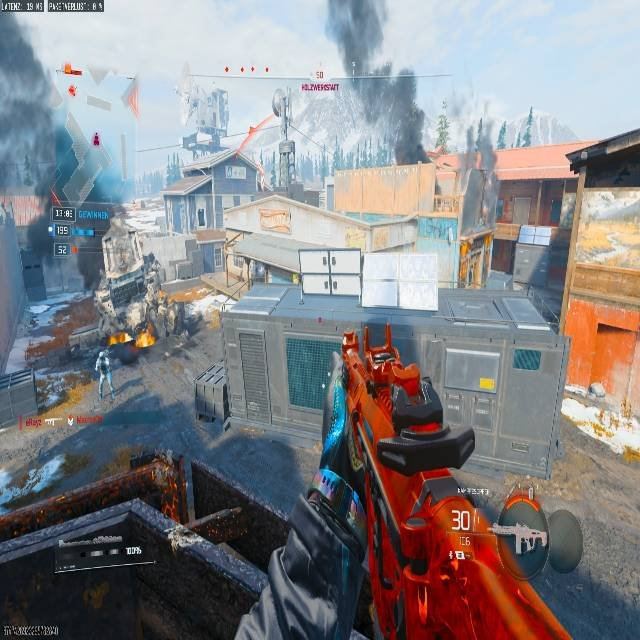player: (95, 348, 115, 400)
